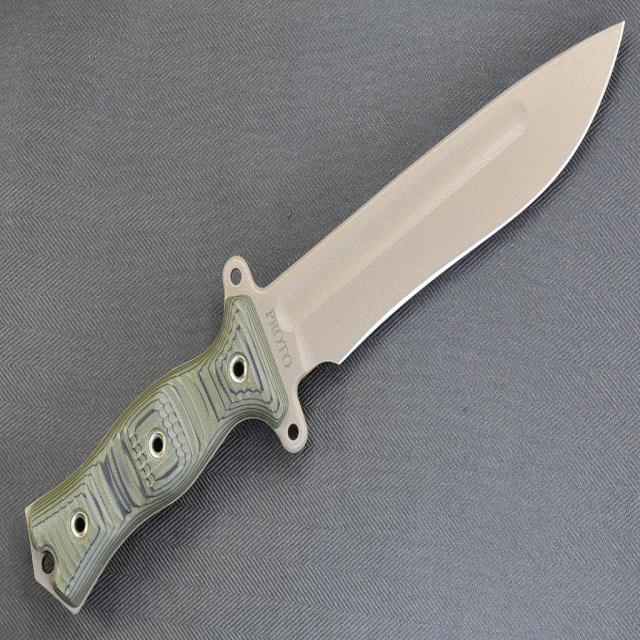Knife: (24, 22, 627, 616)
